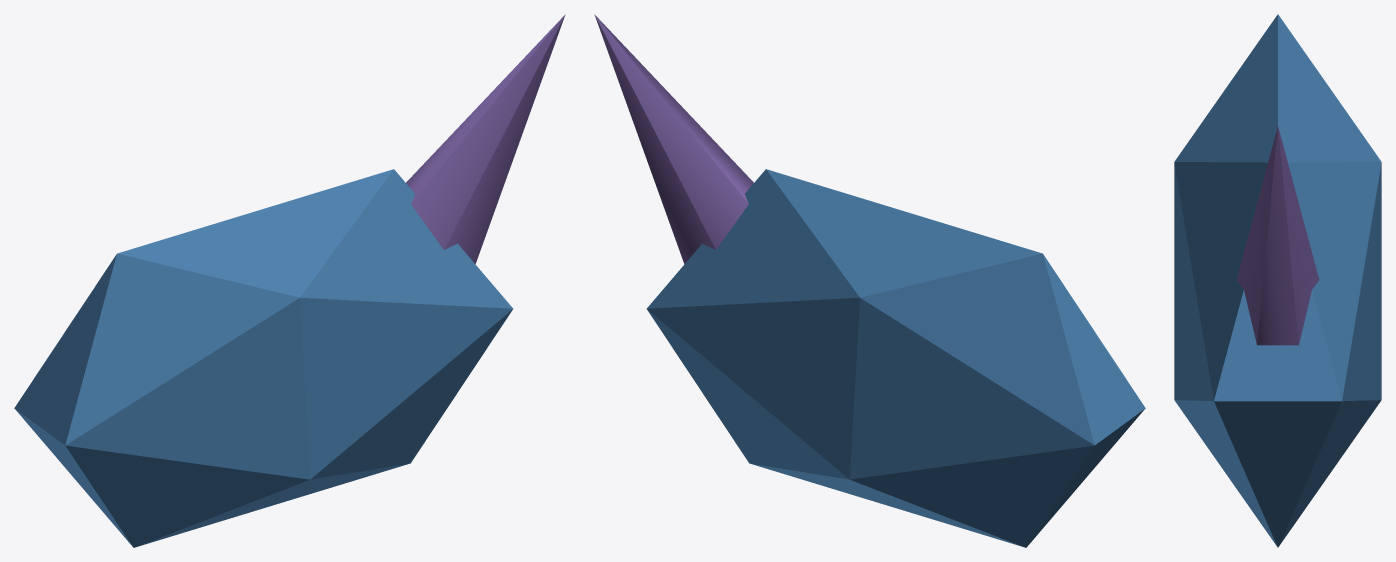
File: wpn_r_07.glb
3 renders of one model, left to right at view 1: azimuth 30°, elevation 25°; view 2: azimuth 150°, elevation 25°; view 3: azimuth 270°, elevation 25°, orthographic. The views are drawn at different scales.
Visible parts, largest first — view 1: thrown_core, thrown_edge; view 2: thrown_core, thrown_edge; view 3: thrown_core, thrown_edge.
Part boxes in pixels (box(x1,y1,x2,y2)): thrown_core: box(14, 169, 513, 547); thrown_edge: box(406, 14, 565, 263); thrown_core: box(646, 169, 1145, 547); thrown_edge: box(594, 14, 753, 263); thrown_core: box(1174, 14, 1381, 547); thrown_edge: box(1236, 126, 1319, 345).
Size of the model in its own units: 0.4823 by 0.3756 by 0.131.
